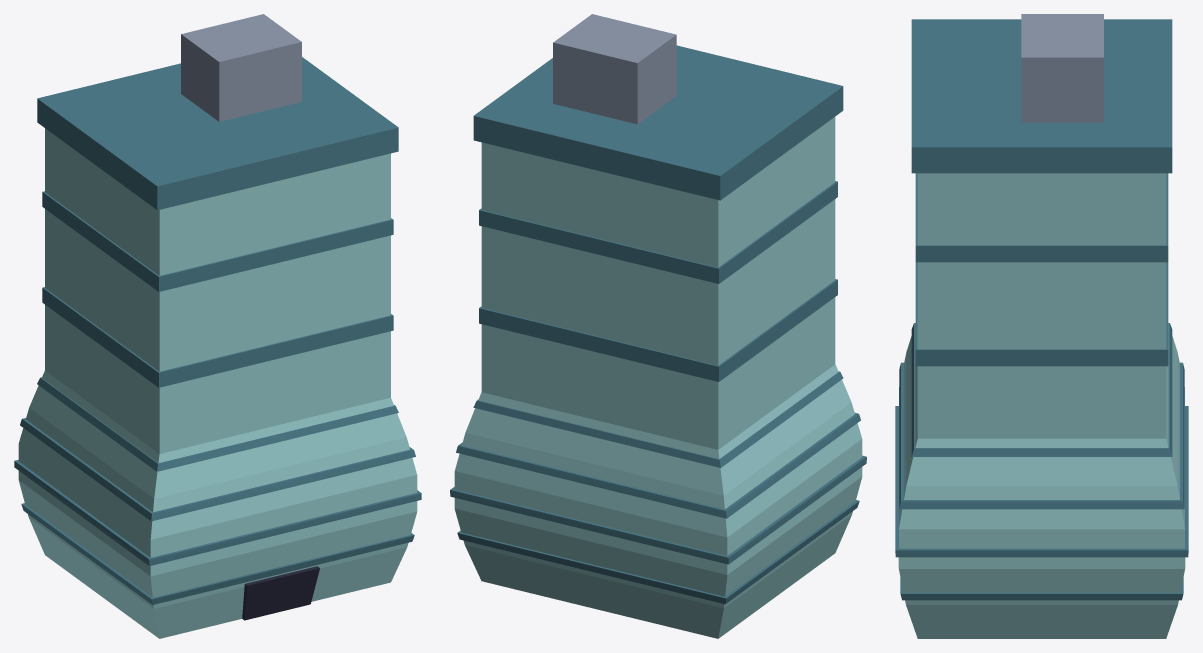
File: office.glb
3 views of the same model, side by side, from view 1: azimuth 30°, elevation 25°; view 2: azimuth 150°, elevation 25°; view 3: azimuth 270°, elevation 25° (orthographic). The views are drawn at different scales.
Visible parts, largest first — view 1: office_glass, office_glass_band, office_metal, office_black; view 2: office_glass, office_glass_band, office_metal; view 3: office_glass, office_glass_band, office_metal.
Boxes of the visible parts, x1,y1,x2,y2 form: office_glass: (18, 128, 417, 638); office_glass_band: (14, 57, 421, 604); office_metal: (181, 14, 301, 121); office_black: (242, 566, 319, 620); office_glass: (454, 117, 862, 638); office_glass_band: (450, 45, 866, 604); office_metal: (553, 14, 676, 124); office_glass: (898, 173, 1185, 638); office_glass_band: (895, 19, 1188, 600); office_metal: (1021, 14, 1103, 122).
Bounding box in the file's own units: 17.13 × 31 × 14.72.
